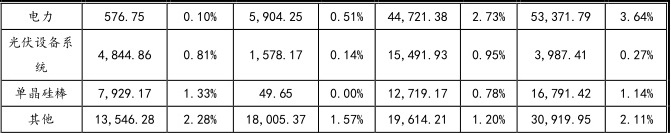column: (9, 1, 73, 133), (531, 1, 592, 133), (388, 2, 447, 133), (97, 3, 155, 133), (249, 2, 306, 133), (182, 5, 218, 133), (620, 1, 654, 133), (472, 1, 506, 131), (330, 1, 363, 133)
row: (2, 85, 671, 101), (2, 34, 671, 49), (2, 114, 671, 127), (2, 50, 671, 62), (1, 10, 670, 21), (2, 64, 671, 72)
